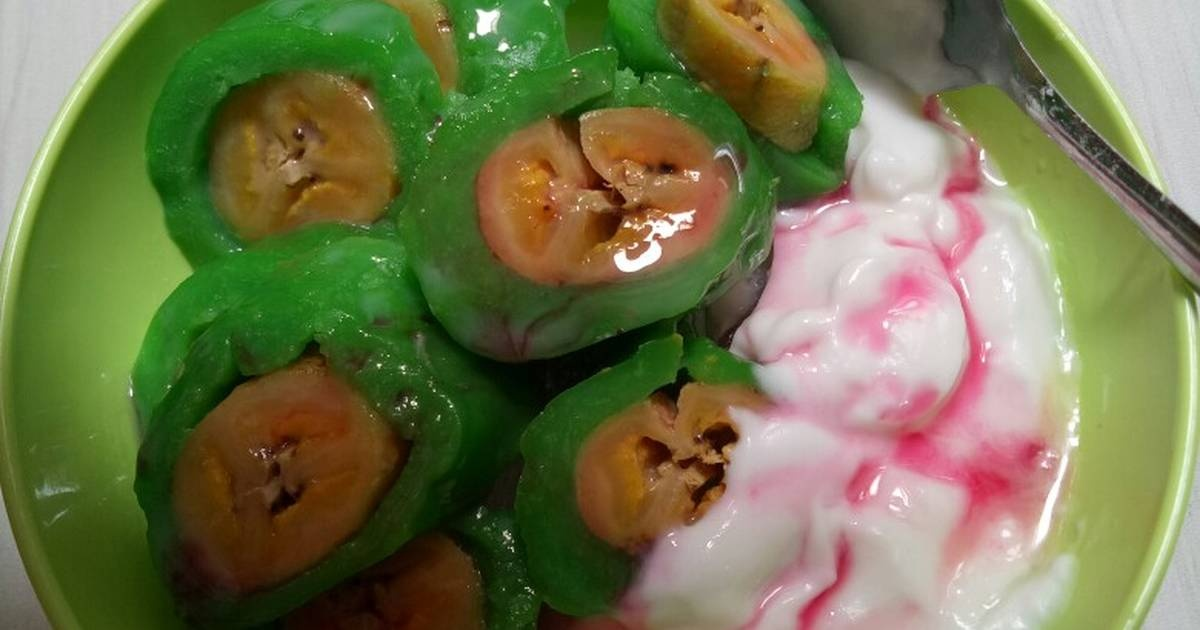pisang_ijo: (345, 31, 791, 355)
